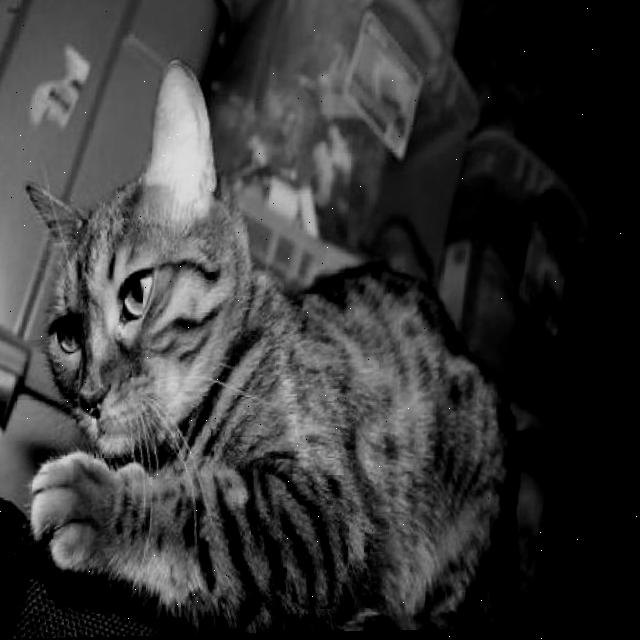Cat: (0, 51, 546, 638)
